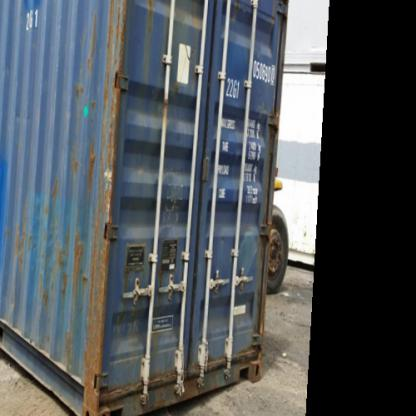Damage: (101, 0, 131, 200), (64, 134, 101, 203), (10, 197, 38, 274), (162, 174, 192, 225), (70, 231, 89, 306), (108, 307, 150, 337), (54, 324, 78, 366), (8, 105, 43, 123), (70, 73, 92, 100)
